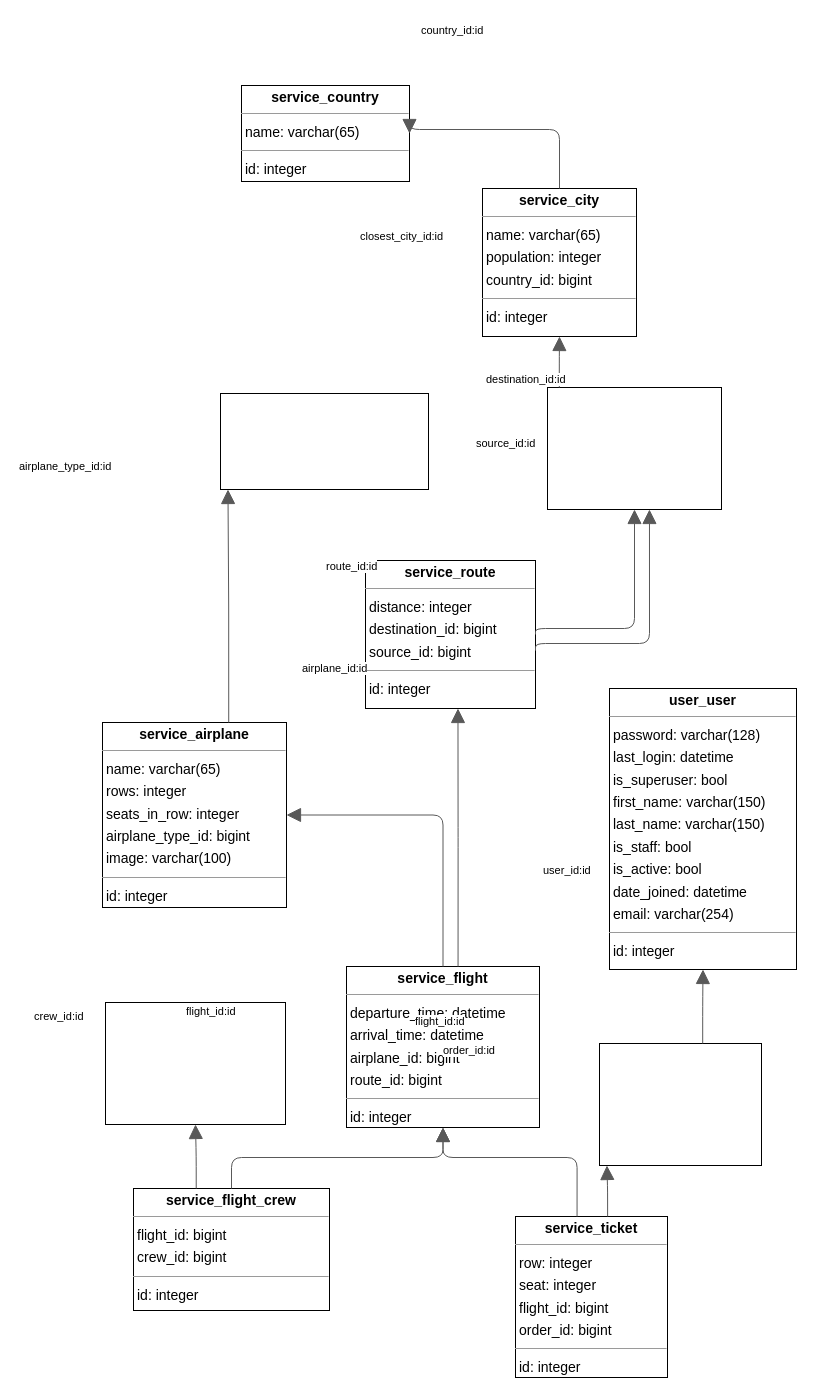
This 814x1395 diagram has some shape labels left out. The shapes that lost their labels are listed below. From the top down, each one's centre as x and y in pixels, then its label:
[324,441]: service_airplanetype name: varchar(65) id: integer
[634,448]: service_airport name: varchar(65) closest_city_id: bigint id: integer
[195,1063]: service_crew first_name: varchar(65) last_name: varchar(65) id: integer
[680,1104]: service_order created_at: datetime user_id: bigint id: integer
